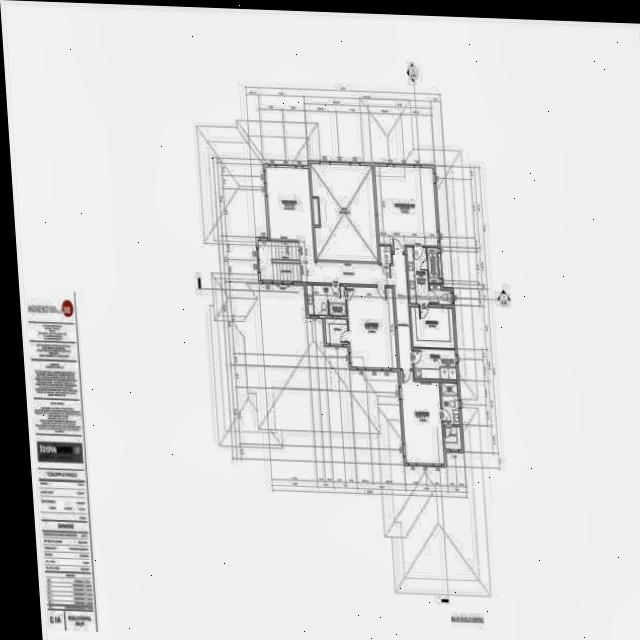room: (374, 162, 438, 254), (346, 283, 398, 372), (400, 368, 444, 467), (406, 246, 430, 306), (412, 349, 458, 380), (305, 285, 347, 316), (441, 381, 460, 426), (325, 317, 348, 346), (429, 285, 453, 305), (444, 425, 462, 451), (427, 247, 439, 284), (379, 245, 391, 264)
